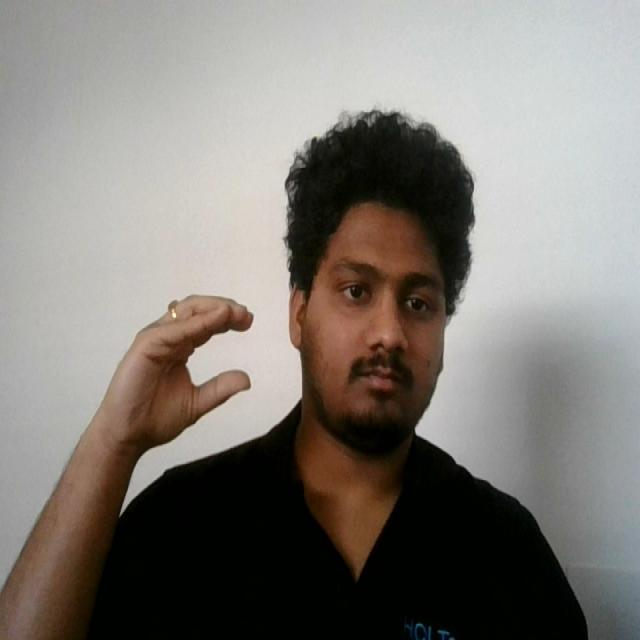No: (87, 282, 262, 460)
